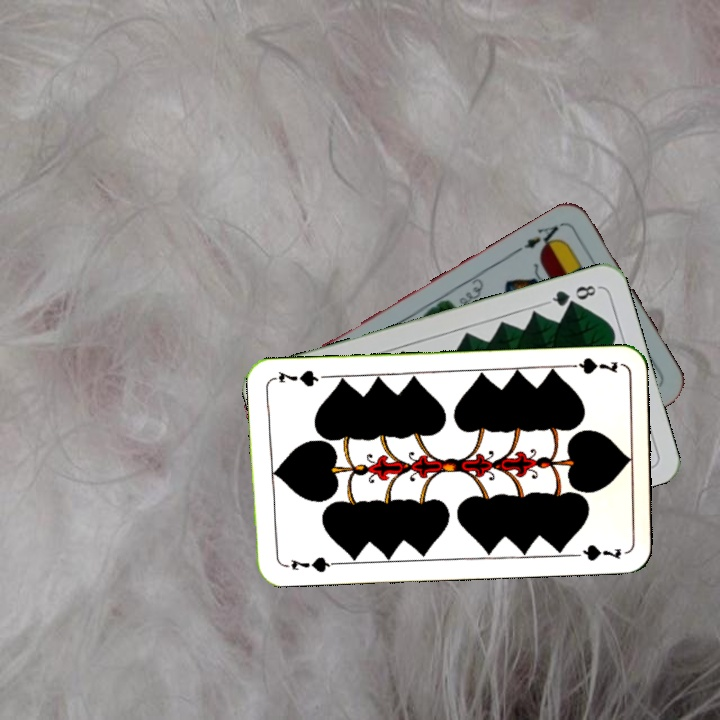EA: (519, 219, 565, 255)
G7: (561, 354, 621, 377), (279, 552, 338, 575)
G8: (544, 281, 602, 309)
